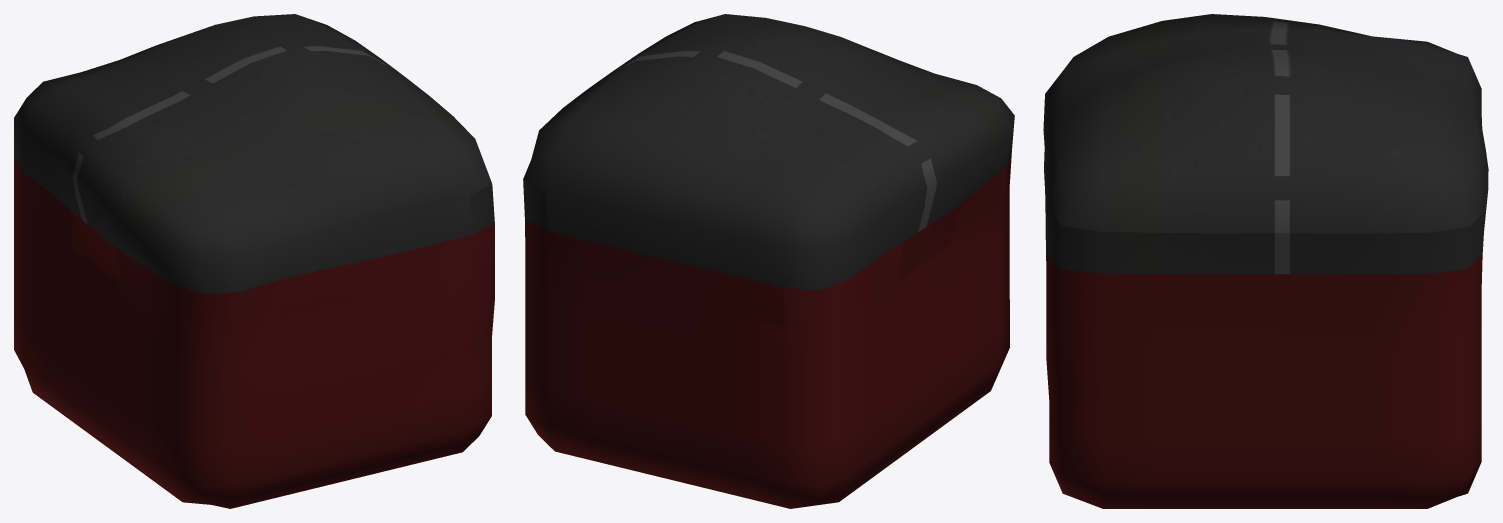
File: RuinedGround_Block_07.fbx
The picture shows the model from 3 angles, left to right: view 1: azimuth 30°, elevation 25°; view 2: azimuth 150°, elevation 25°; view 3: azimuth 270°, elevation 25°; orthographic projection. The views are drawn at different scales.
Parts seen in each view (by area): view 1: Box015; view 2: Box015; view 3: Box015.
Part boxes in pixels (x1,y1,x2,y2): Box015: (14,14,494,508); Box015: (523,14,1014,508); Box015: (1043,14,1488,508).
Size of the model in its own units: 21.74 by 22.02 by 22.88.
